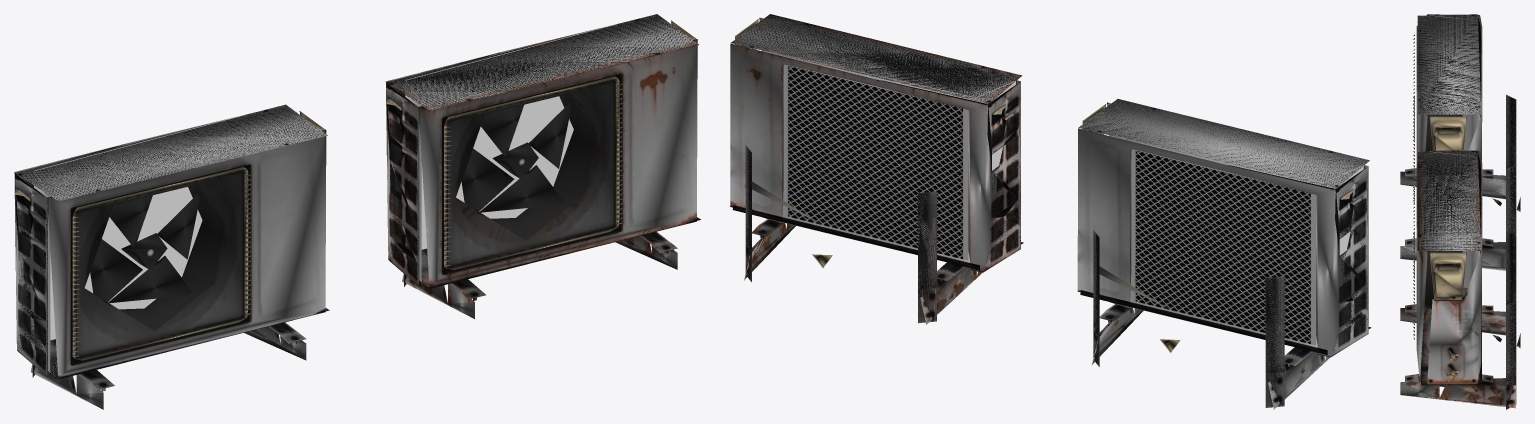
Rendered from exterior_aircon_unit.glb.
The picture shows the model from 3 angles, left to right: view 1: azimuth 30°, elevation 25°; view 2: azimuth 150°, elevation 25°; view 3: azimuth 270°, elevation 25°; orthographic projection. The views are drawn at different scales.
Parts seen in each view (by area): view 1: exterior_aircon_unit, exterior_aircon_unit_rusted; view 2: exterior_aircon_unit, exterior_aircon_unit_rusted; view 3: exterior_aircon_unit_rusted, exterior_aircon_unit.
Part boxes in pixels (x1,y1,x2,y2): exterior_aircon_unit: (14,104,329,409); exterior_aircon_unit_rusted: (385,14,700,318); exterior_aircon_unit: (1077,99,1371,409); exterior_aircon_unit_rusted: (730,14,1023,324); exterior_aircon_unit_rusted: (1400,150,1520,409); exterior_aircon_unit: (1400,14,1520,270).
Size of the model in its own units: 1.8 by 0.5876 by 0.3742.
Materials: 4 (4 with a texture image).
